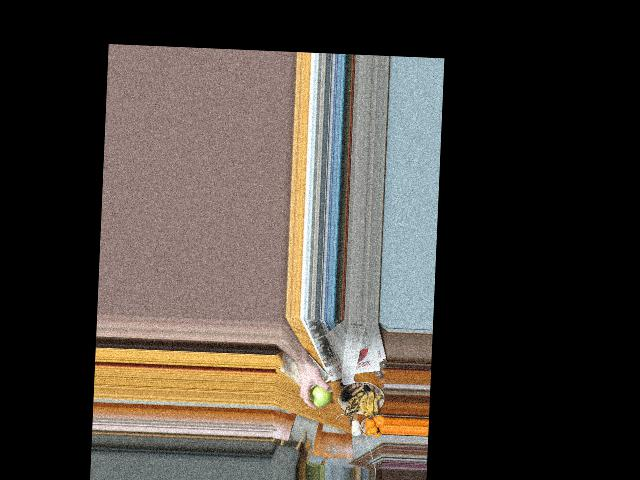apple: (308, 384, 333, 407)
